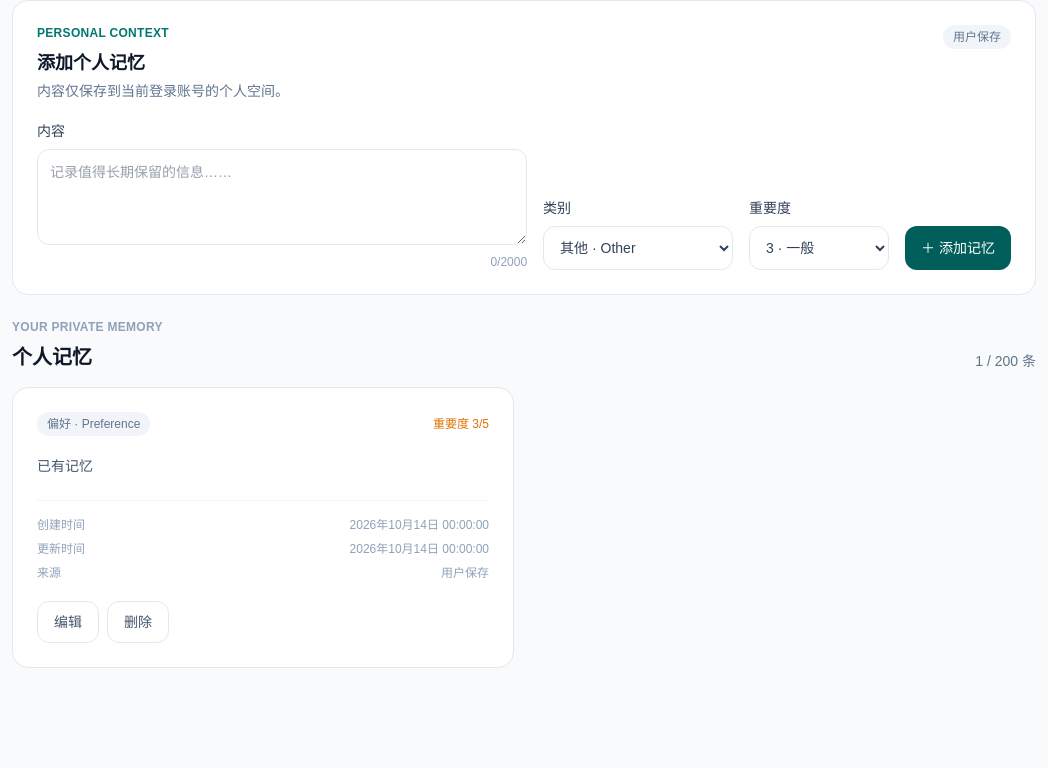
Test: Memory management workspace › shows the current count and user-saved source, and adds a memory
The width and height of the screenshot is (1048, 768).
Expected: the text "1 / 200 条" is shown, [975, 351, 1036, 371]
Expected: the text "用户保存" is shown 2 times, [943, 25, 1011, 49]; [441, 565, 489, 581]
Step 1. Type "新记忆" into the text box labelled "内容" → (282, 197), box [37, 149, 527, 245]
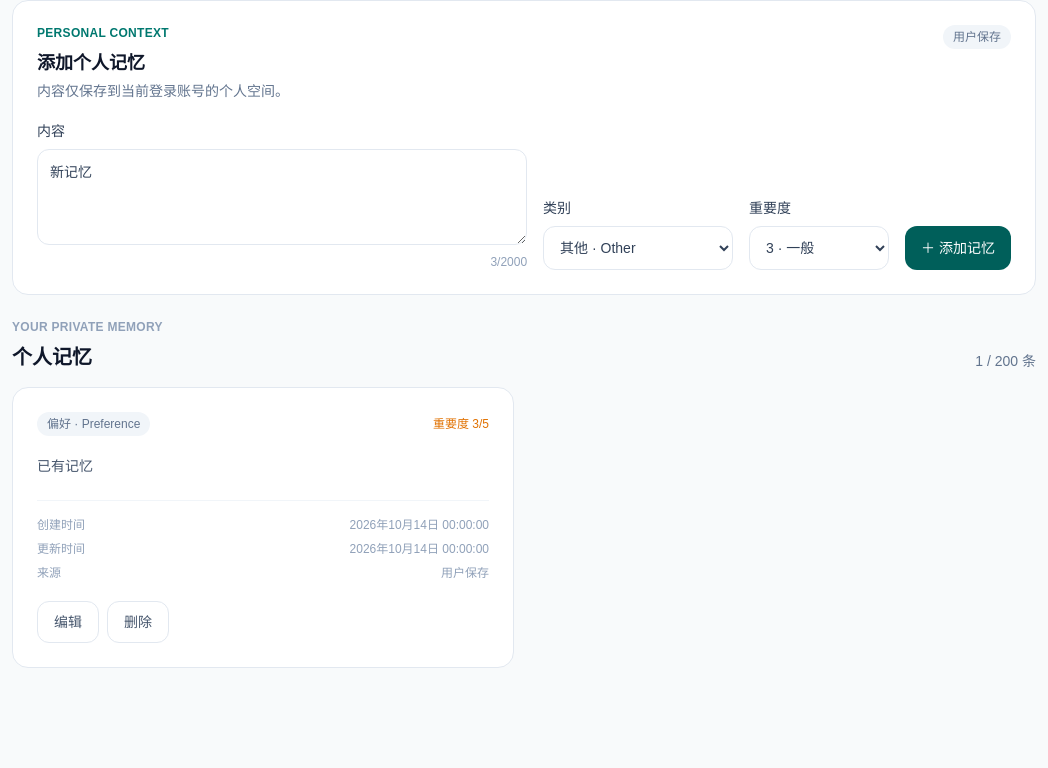
Step 2. Click the button "＋ 添加记忆" → (958, 248), box [905, 226, 1011, 270]
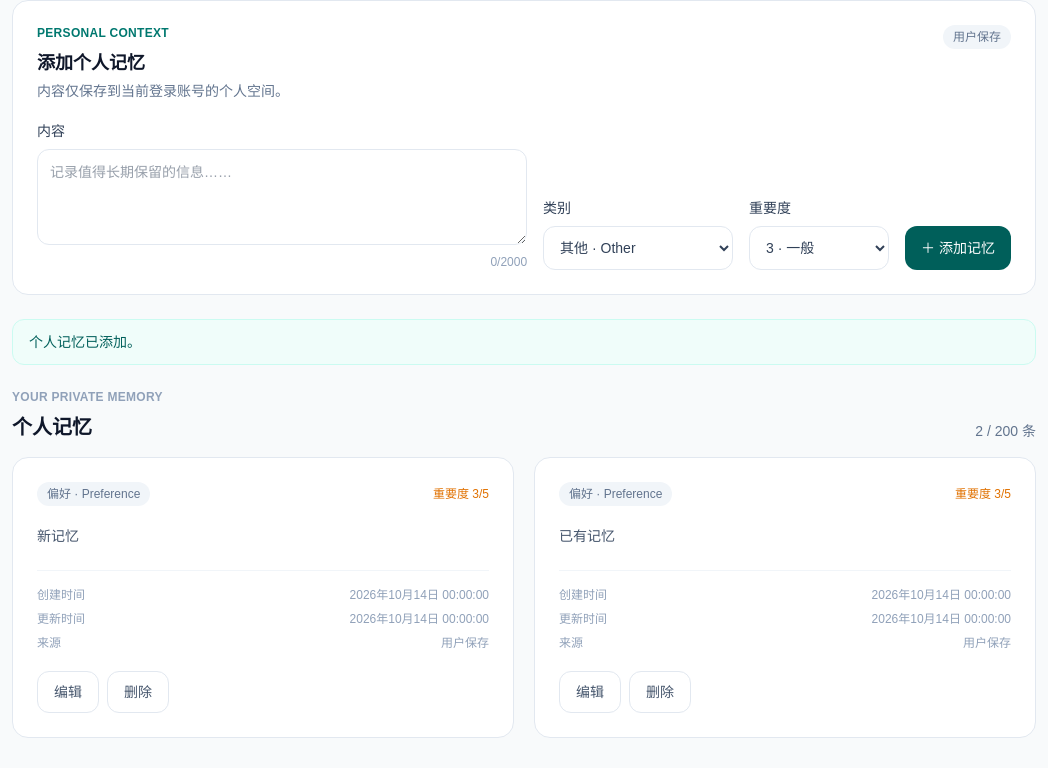
Now the text "2 / 200 条" is shown, box [975, 421, 1036, 441]
